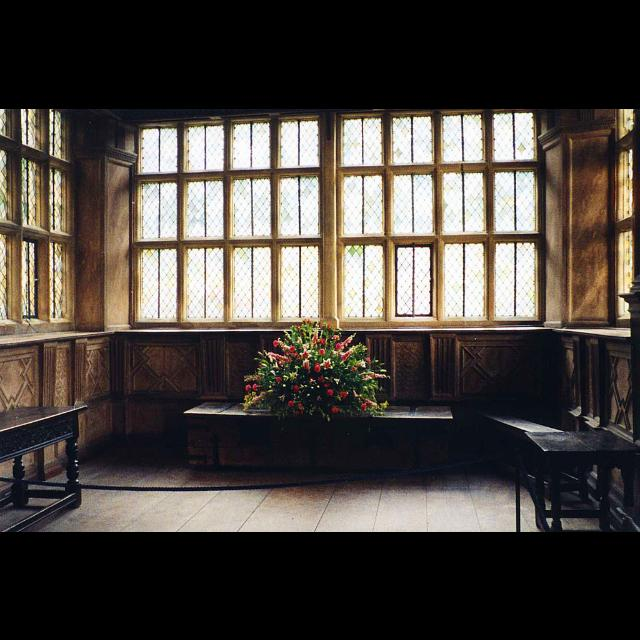Flower: (242, 310, 384, 412)
